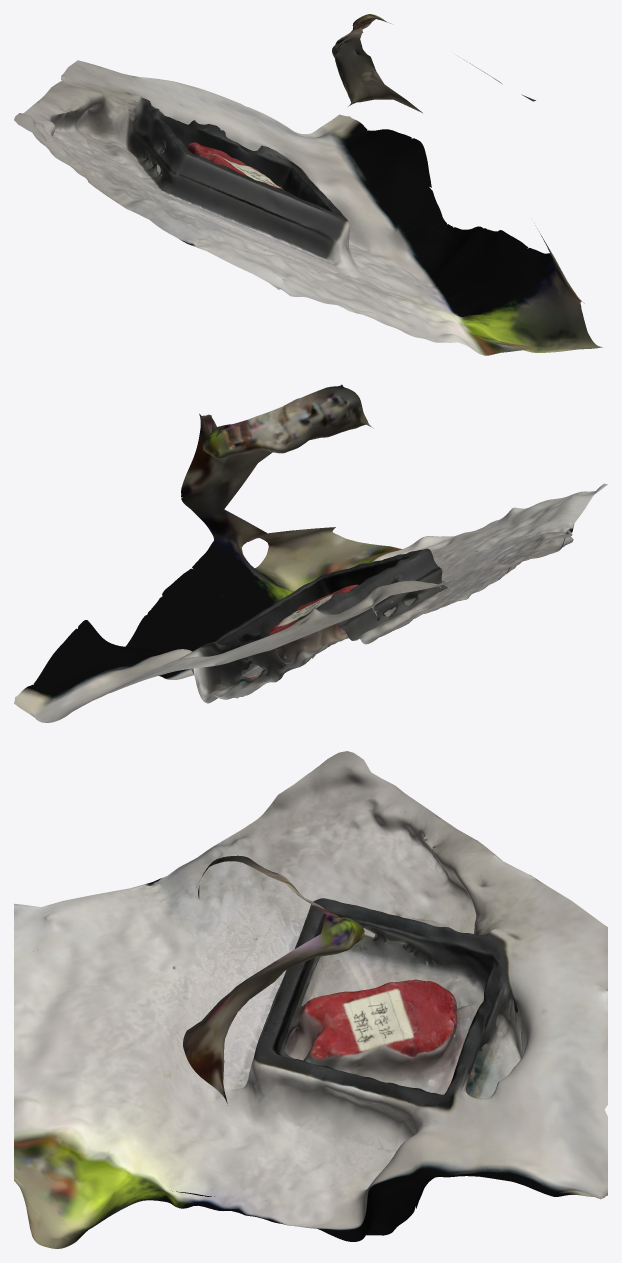
3 views of the same model, one above another, from view 1: azimuth 30°, elevation 25°; view 2: azimuth 150°, elevation 25°; view 3: azimuth 270°, elevation 25° (orthographic). The views are drawn at different scales.
Bounding box in the file's own units: 1.74 × 1.06 × 1.82.
1 material, 1 textured.
